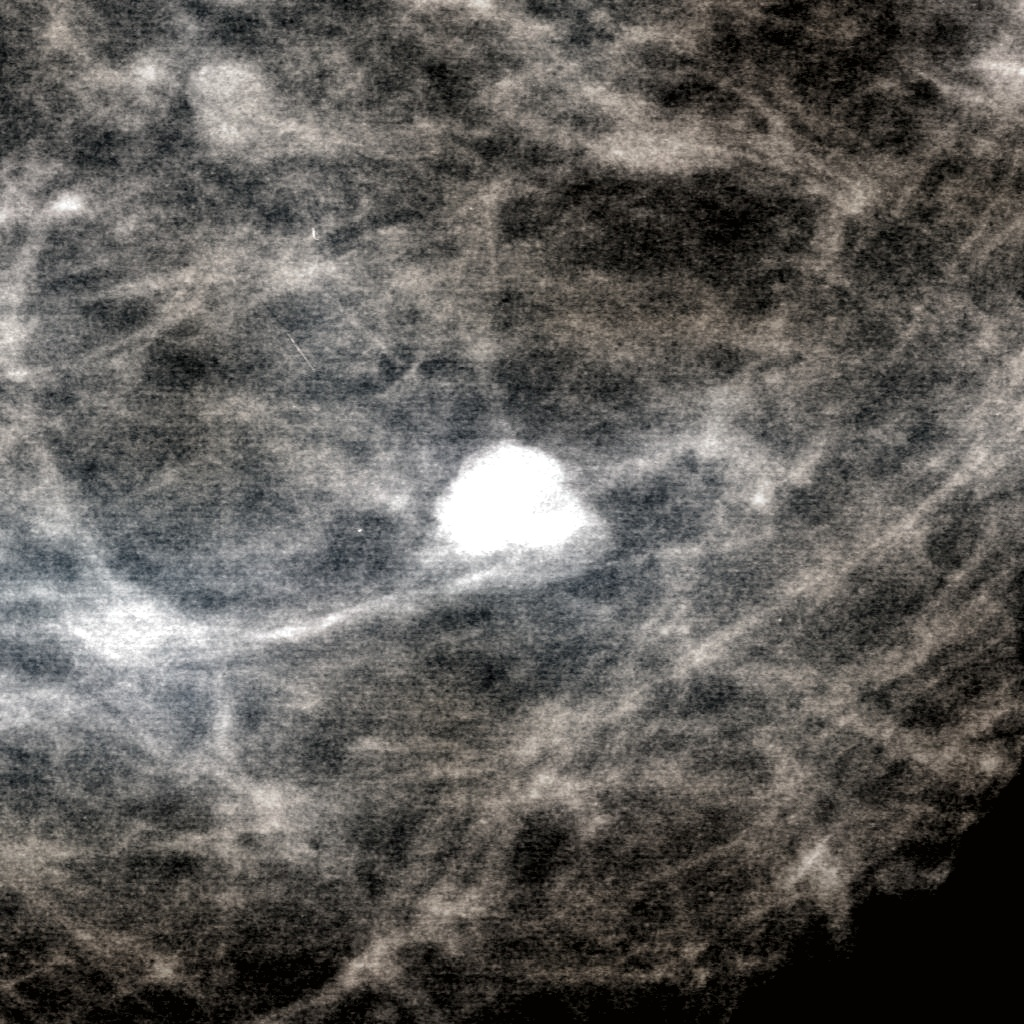tumor: (407, 421, 617, 603)
